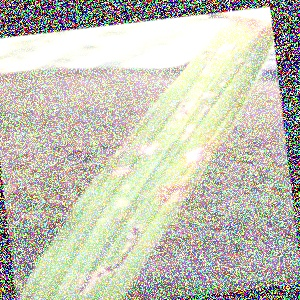Brown_Spot: (60, 219, 158, 294), (97, 128, 172, 164), (175, 132, 222, 174), (148, 172, 193, 203), (108, 158, 146, 183), (210, 33, 242, 61), (175, 112, 202, 142), (190, 102, 218, 123), (197, 84, 221, 104), (195, 58, 218, 75)
